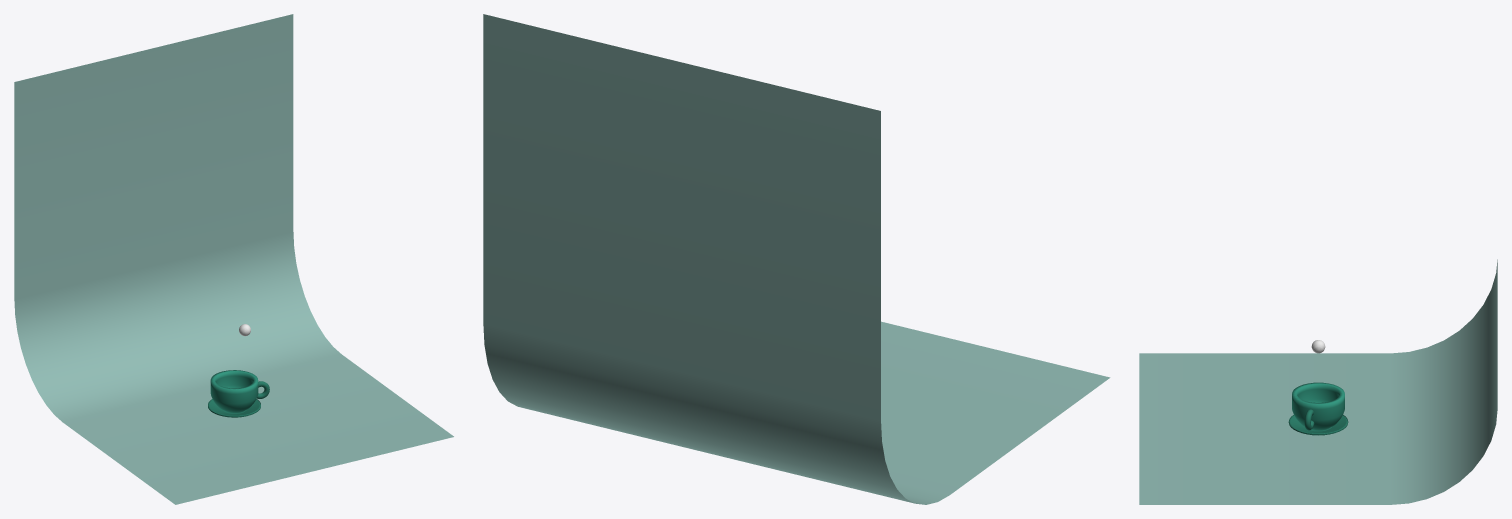
Rendered from coffeee-pouring-no-box.glb.
3 renders of one model, left to right at view 1: azimuth 30°, elevation 25°; view 2: azimuth 150°, elevation 25°; view 3: azimuth 270°, elevation 25°, orthographic. The views are drawn at different scales.
Parts seen in each view (by area): view 1: Plane, Circle.001; view 2: Plane; view 3: Plane, Circle.001, Circle.
Part boxes in pixels (box(x1,y1,x2,y2)): Plane: box(14, 14, 453, 504); Circle.001: box(210, 370, 258, 413); Plane: box(483, 14, 1110, 504); Plane: box(1139, 259, 1497, 504); Circle.001: box(1292, 382, 1344, 430); Circle: box(1288, 415, 1348, 435).
Bounding box in the file's own units: 26.51 × 27.69 × 26.51.
